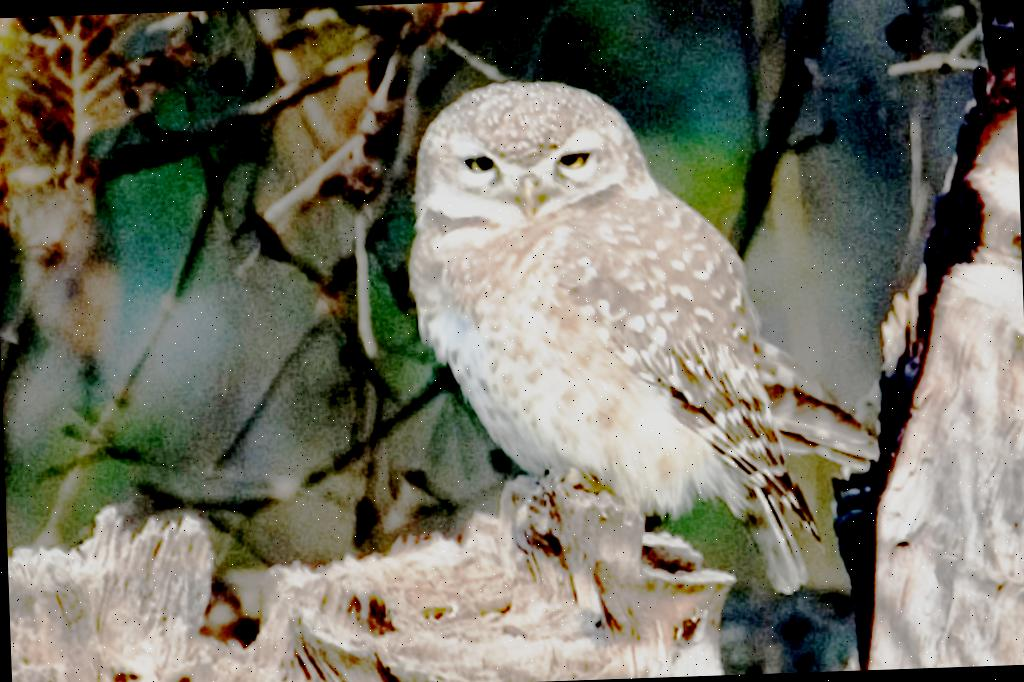Owl: (402, 66, 886, 601)
